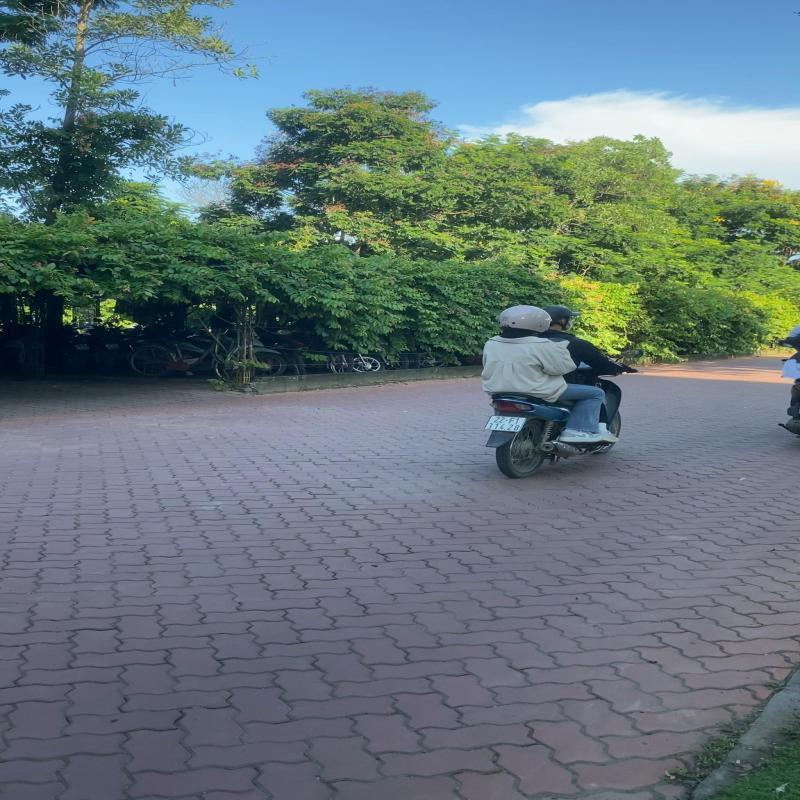helmet: (497, 306, 552, 336), (542, 304, 580, 330)
licenseplate: (484, 415, 527, 433)
motorcyclist: (480, 305, 628, 477)
